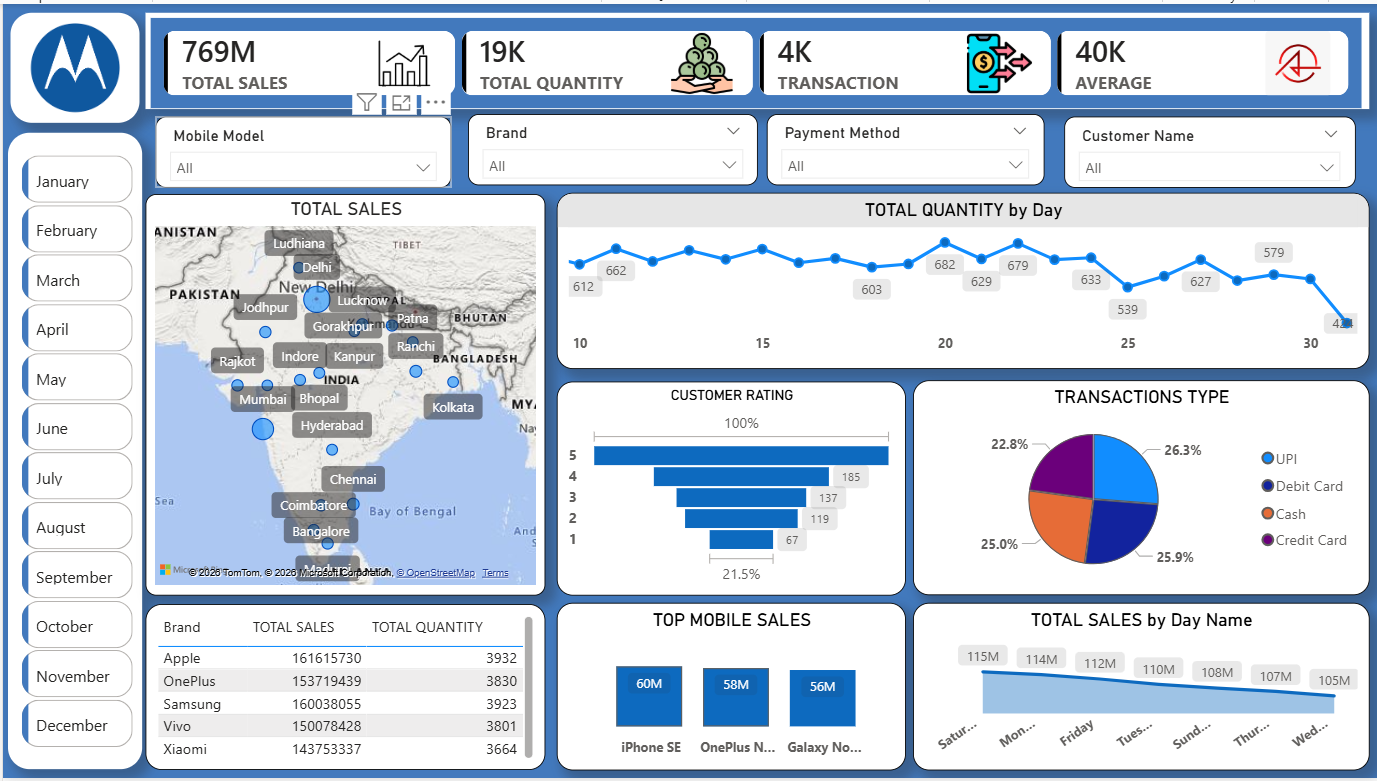

This screenshot's page, from the dashboard's own definition file:
{"tool":"powerbi","page":{"name":"Page 1","canvas":[1280,720],"ordinal":0},"visuals":[{"type":"shape","box":[7,8.1,119.8,102.3],"z":0},{"type":"image","box":[23.3,8.1,88.4,102.3],"z":1000},{"type":"shape","box":[4.7,119.8,124.4,591.9],"z":2000},{"type":"advancedSlicerVisual","fields":{"Values":["Sheet1.Date.Variation.Date Hierarchy.Month"]},"box":[12.8,136,114,565.1],"z":3000},{"type":"cardVisual","fields":{"Data":["Sheet1.TOTAL SALES","Sheet1.TOTAL QUANTITY","Sheet1.TRANSACTION","Sheet1.AVERAGE"]},"box":[132.6,8.1,1138.4,89.5],"z":4000},{"type":"map","title":"TOTAL SALES","fields":{"Category":["Sheet1.City"],"Size":["Sheet1.TOTAL SALES"]},"box":[132.6,176.7,372.1,373.3],"z":5000},{"type":"lineChart","fields":{"Y":["Sheet1.TOTAL QUANTITY"],"Category":["Sheet1.Date.Variation.Date Hierarchy.Month","Sheet1.Date.Variation.Date Hierarchy.Day"]},"box":[515.1,175.6,755.8,164],"z":6000},{"type":"columnChart","title":"TOP MOBILE SALES","fields":{"Category":["Sheet1.Mobile Model"],"Y":["Sheet1.TOTAL SALES"]},"box":[515.1,557,324.4,155.8],"z":7000},{"type":"pieChart","title":"TRANSACTIONS TYPE","fields":{"Category":["Sheet1.Payment Method"],"Y":["Sheet1.TRANSACTION"]},"box":[846.5,350,424.4,200],"z":8000},{"type":"funnel","title":"CUSTOMER RATING","fields":{"Category":["Sheet1.Customer Ratings"],"Y":["CountNonNull(Sheet1.Customer Ratings)"]},"box":[515.1,351.2,324.4,198.8],"z":9000},{"type":"stackedAreaChart","fields":{"Y":["Sheet1.TOTAL SALES"],"Category":["Sheet1.Day Name"]},"box":[846.5,557,424.4,155.8],"z":10000},{"type":"tableEx","fields":{"Values":["Sheet1.Brand","Sheet1.TOTAL SALES","Sheet1.TOTAL QUANTITY"]},"box":[132.6,558.1,372.1,154.7],"z":11000},{"type":"slicer","fields":{"Values":["Sheet1.Mobile Model"]},"box":[141.9,104.7,275.6,66.3],"z":12000},{"type":"slicer","fields":{"Values":["Sheet1.Brand"]},"box":[432.6,102.3,269.8,66.3],"z":13000},{"type":"slicer","fields":{"Values":["Sheet1.Payment Method"]},"box":[710.5,102.3,258.1,66.3],"z":14000},{"type":"slicer","fields":{"Values":["Sheet1.Customer Name"]},"box":[987.2,104.7,270.9,66.3],"z":15000}]}

Visuals, with their boxes in screenshot pixels (x1, y1, x2, y2), scaled from the page's 1280x720 canvas onto the 1377x781 screenshot:
shape: bbox=(8, 9, 136, 120)
image: bbox=(25, 9, 120, 120)
shape: bbox=(5, 130, 139, 772)
advancedSlicerVisual - Sheet1.Date.Variation.Date Hierarchy.Month: bbox=(14, 148, 136, 760)
cardVisual - Sheet1.TOTAL SALES x Sheet1.TOTAL QUANTITY: bbox=(143, 9, 1367, 106)
"TOTAL SALES" map: bbox=(143, 192, 543, 597)
lineChart - Sheet1.TOTAL QUANTITY x Sheet1.Date.Variation.Date Hierarchy.Month: bbox=(554, 190, 1367, 368)
"TOP MOBILE SALES" columnChart: bbox=(554, 604, 903, 773)
"TRANSACTIONS TYPE" pieChart: bbox=(911, 380, 1367, 597)
"CUSTOMER RATING" funnel: bbox=(554, 381, 903, 597)
stackedAreaChart - Sheet1.TOTAL SALES x Sheet1.Day Name: bbox=(911, 604, 1367, 773)
tableEx - Sheet1.Brand x Sheet1.TOTAL SALES: bbox=(143, 605, 543, 773)
slicer - Sheet1.Mobile Model: bbox=(153, 114, 449, 185)
slicer - Sheet1.Brand: bbox=(465, 111, 756, 183)
slicer - Sheet1.Payment Method: bbox=(764, 111, 1042, 183)
slicer - Sheet1.Customer Name: bbox=(1062, 114, 1353, 185)
